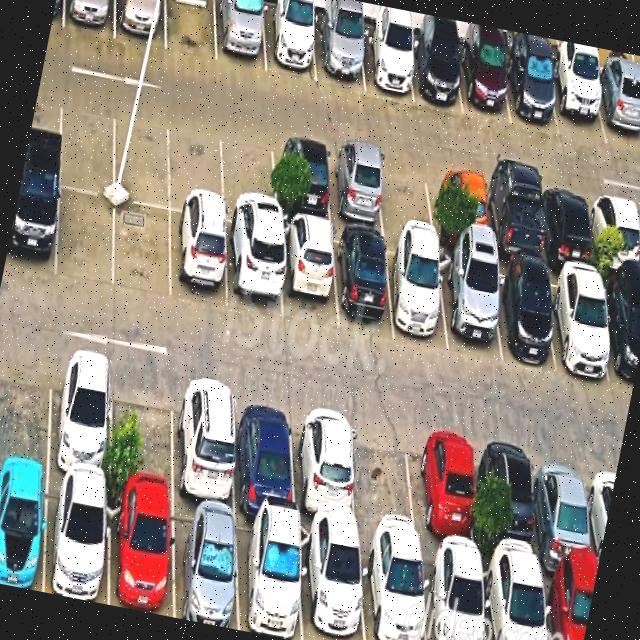empty: (350, 411, 420, 547), (111, 362, 174, 499), (0, 340, 52, 472), (114, 104, 171, 209), (221, 125, 276, 231), (59, 92, 115, 196), (57, 188, 115, 288), (170, 115, 224, 219), (115, 200, 170, 302), (377, 153, 435, 239), (166, 0, 217, 61)
occupied: (48, 349, 112, 486), (414, 421, 477, 558), (293, 401, 357, 535), (172, 502, 239, 630), (109, 489, 174, 618), (44, 476, 108, 605), (236, 515, 302, 640), (535, 443, 596, 577), (175, 375, 235, 511), (235, 387, 295, 520), (484, 433, 541, 568), (546, 266, 612, 380), (300, 526, 365, 640), (438, 251, 502, 362), (489, 260, 555, 367), (386, 239, 448, 351), (360, 540, 427, 640), (334, 229, 394, 337), (280, 219, 337, 330), (421, 548, 486, 640), (0, 468, 48, 592), (4, 175, 60, 278), (482, 173, 544, 264), (171, 211, 227, 310), (225, 224, 282, 321), (482, 559, 547, 640), (273, 135, 331, 224), (430, 164, 489, 251), (328, 144, 385, 231), (548, 61, 606, 145), (540, 182, 595, 268), (600, 275, 640, 390), (505, 49, 559, 134), (458, 41, 511, 123), (589, 190, 640, 275), (263, 3, 317, 82), (408, 36, 462, 113), (359, 26, 413, 102), (592, 68, 640, 151), (541, 569, 596, 640), (215, 0, 266, 72), (314, 17, 364, 90), (115, 0, 166, 49), (63, 0, 115, 39)
